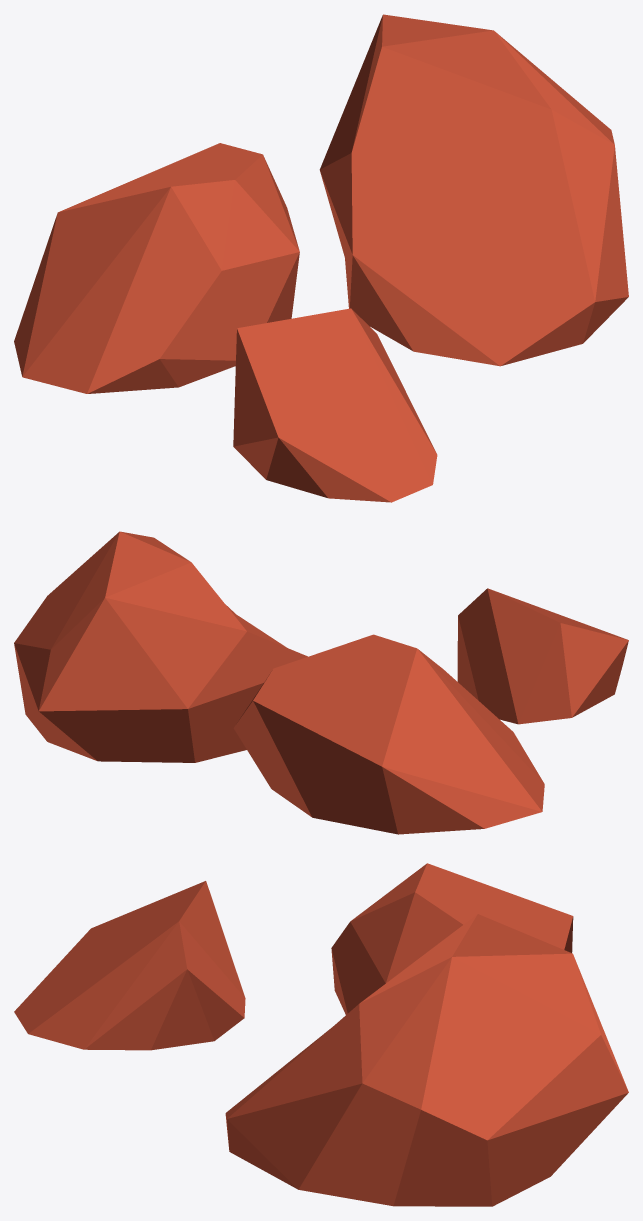
Rendered from Stones_1.fbx.
3 views of the same model, one above another, from view 1: azimuth 30°, elevation 25°; view 2: azimuth 150°, elevation 25°; view 3: azimuth 270°, elevation 25° (orthographic). The views are drawn at different scales.
Parts seen in each view (by area): view 1: Stones_1; view 2: Stones_1; view 3: Stones_1.
Part boxes in pixels (box(x1,y1,x2,y2)): Stones_1: box(14, 14, 628, 502); Stones_1: box(14, 531, 628, 834); Stones_1: box(14, 863, 628, 1206).
Bounding box in the file's own units: 52.62 × 18.94 × 50.34.
Materials: 1 (1 with a texture image).
